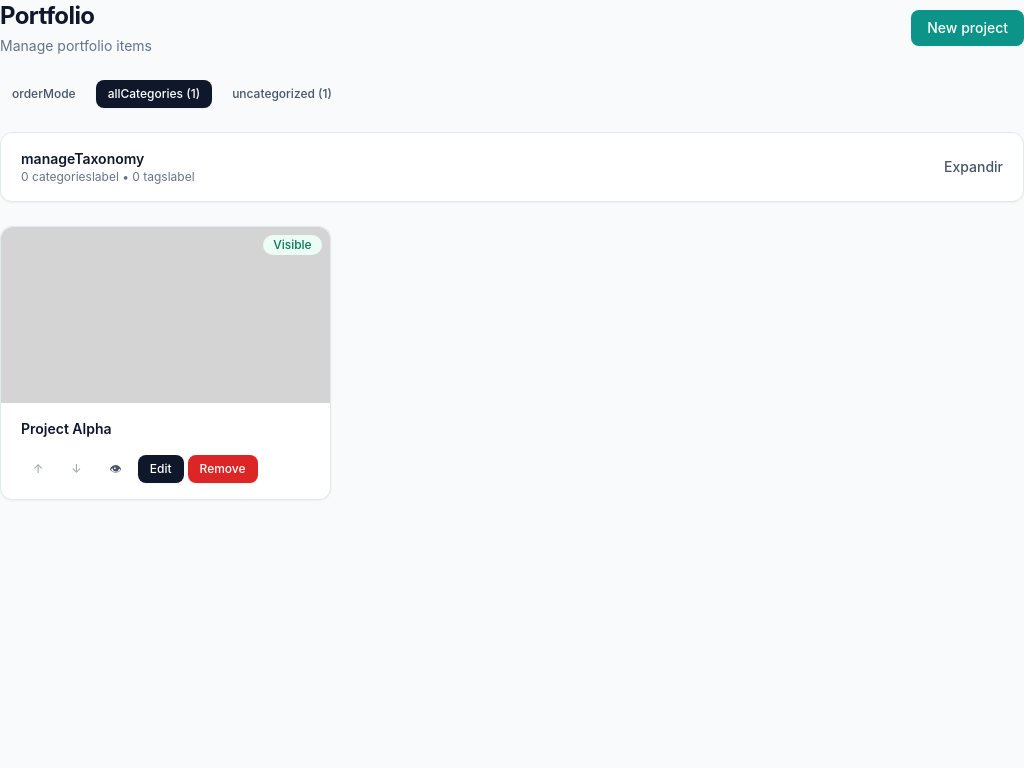
Test: PortfolioView › opens edit slide-over when add button is clicked
Click the button "New project". click: x=968, y=28
box: 911,10 -> 1023,46
(page scrolled)
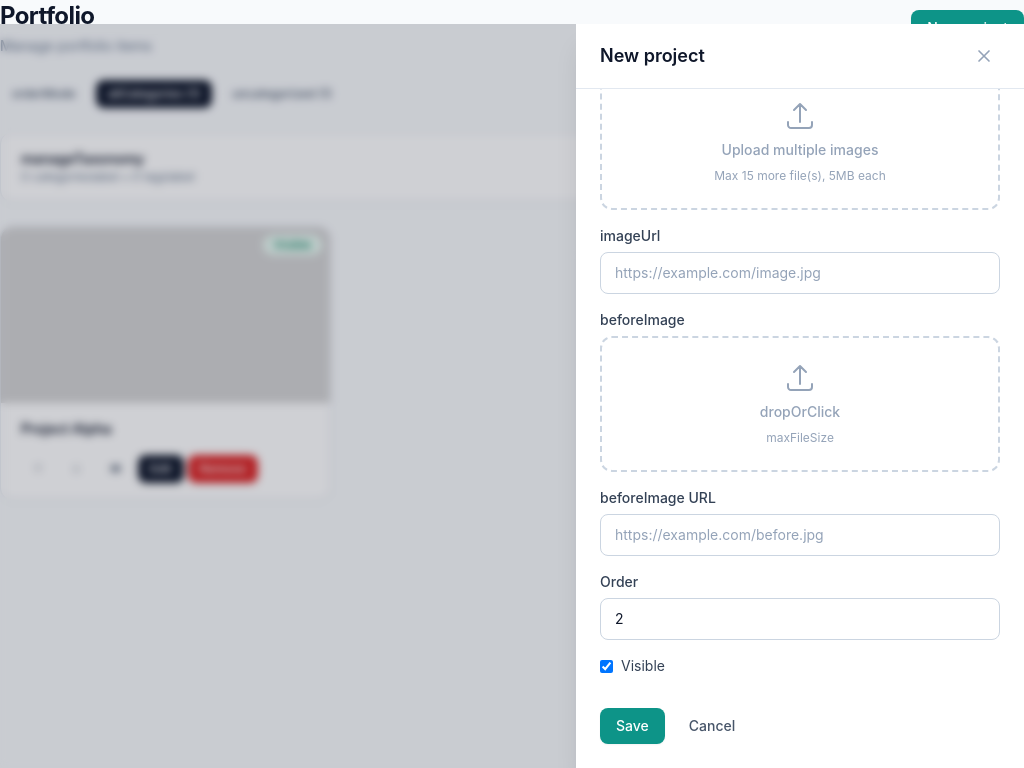
Now the button "Save" is shown, box 600,708 -> 665,744
